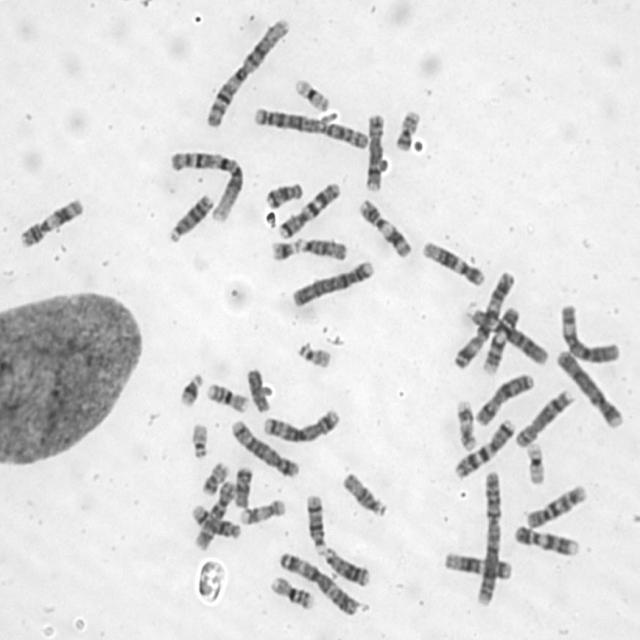A1: (202, 12, 292, 130), (167, 147, 246, 224)
A2: (250, 103, 370, 151), (473, 468, 503, 606)
A3: (450, 268, 516, 371), (276, 548, 362, 618)
B4: (553, 346, 625, 429), (288, 257, 376, 309)
B5: (228, 416, 300, 479), (260, 405, 342, 444)
C10: (522, 480, 589, 532), (191, 478, 237, 552)
C11: (16, 195, 86, 249), (356, 195, 414, 260)
C12: (420, 237, 487, 287), (441, 548, 514, 581)
C6: (467, 305, 549, 367), (556, 300, 622, 364)
C7: (452, 416, 516, 480), (275, 179, 341, 240)
C8: (512, 385, 574, 449), (363, 111, 387, 193)
C9: (479, 304, 522, 375), (510, 521, 580, 558)
D13: (165, 190, 214, 244), (322, 545, 371, 588)
D14: (188, 504, 243, 541), (303, 491, 328, 556)
D15: (340, 468, 388, 519), (291, 235, 348, 261)
E16: (268, 573, 316, 611), (204, 380, 250, 414)
E17: (236, 495, 286, 527), (454, 397, 478, 452)
E18: (263, 179, 305, 210), (231, 464, 254, 508)
F19: (291, 75, 331, 113), (524, 439, 548, 486)
F20: (393, 106, 422, 152), (199, 458, 230, 497)
G21: (177, 369, 205, 408), (268, 236, 302, 263)
G22: (294, 339, 334, 371), (188, 420, 210, 460)
X: (472, 371, 536, 426)
Y: (245, 365, 272, 414)
